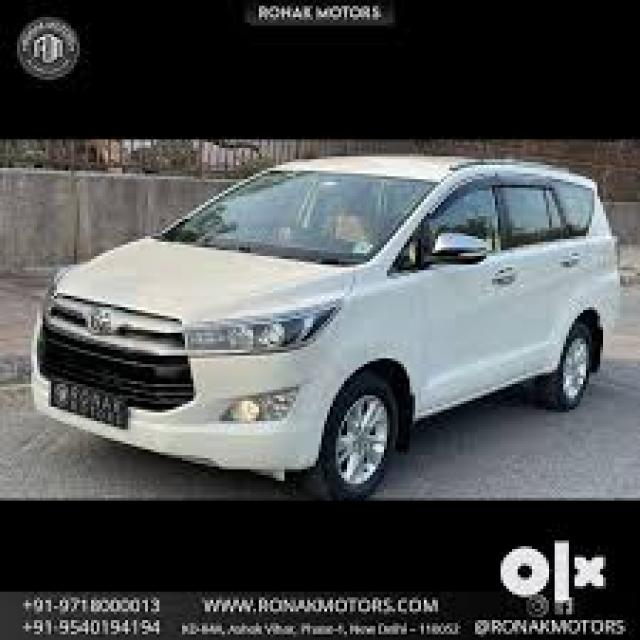light_vehicle: (31, 156, 620, 502)
